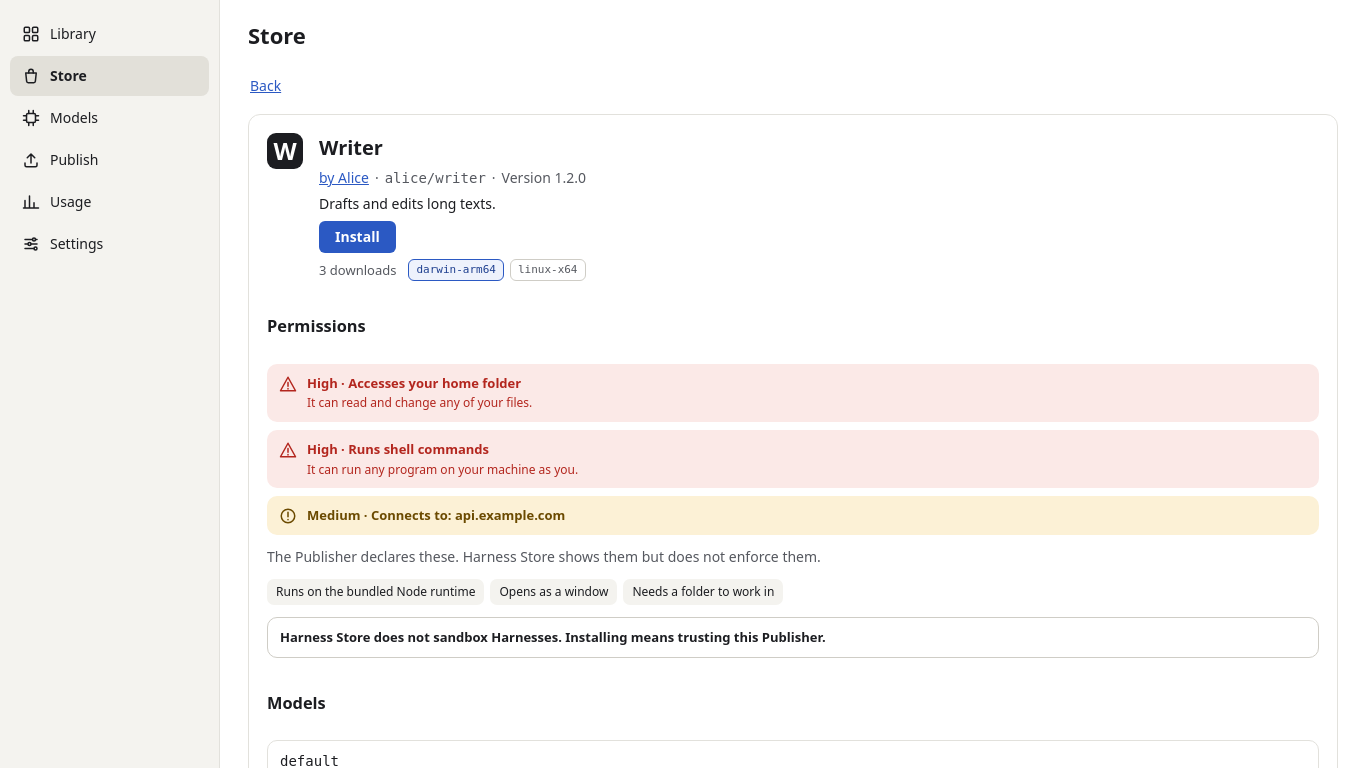
Test: Install on a Store detail page › Cancel in the consent dialog discards the download
Click the button "Install" at (357, 237), box left=319, top=221, right=396, bottom=253
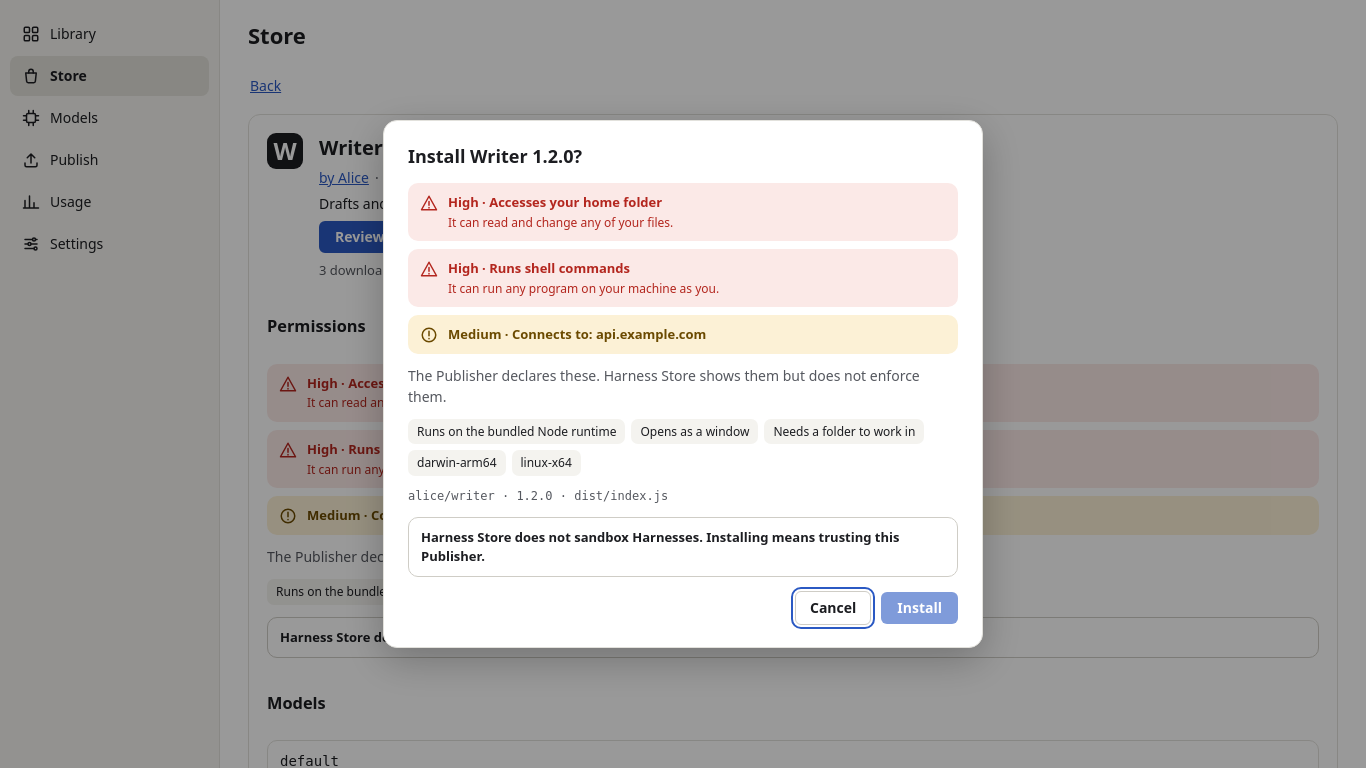
Click the button "Cancel" at (833, 608), box left=795, top=591, right=871, bottom=625
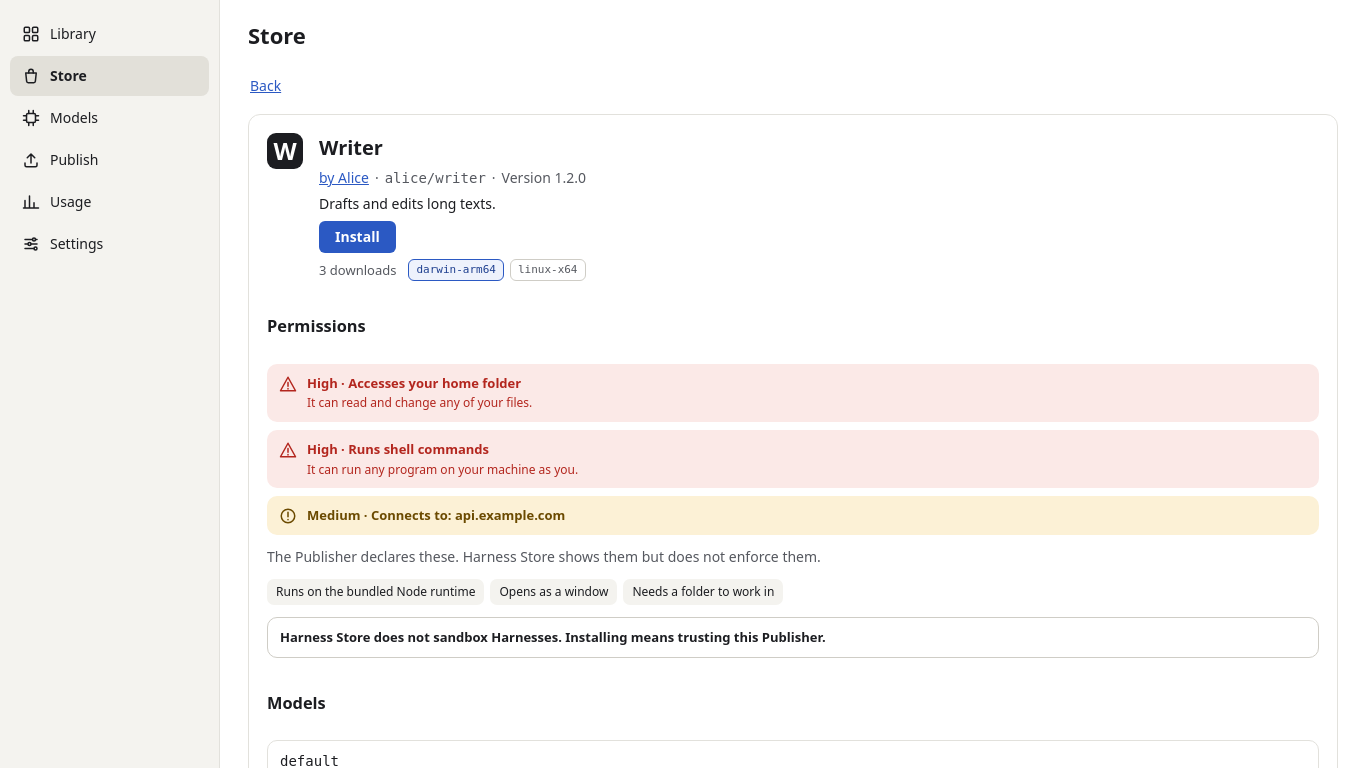
Expected: the dialog is gone
